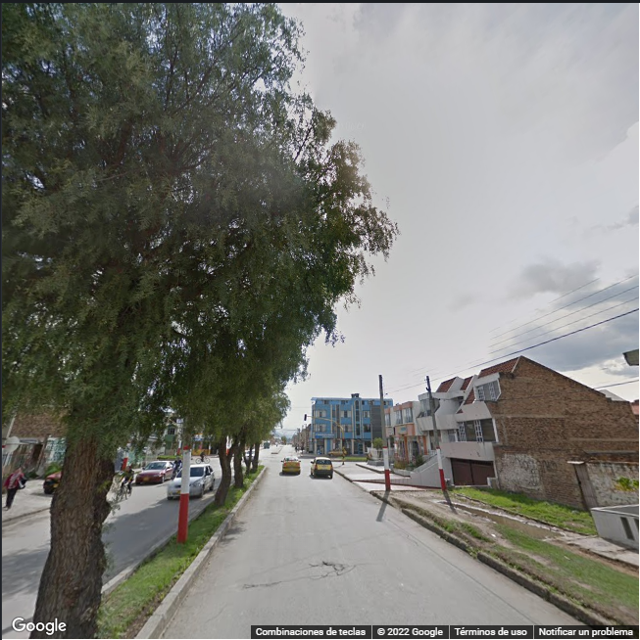D10: (235, 573, 326, 591)
D40: (319, 556, 352, 571)
